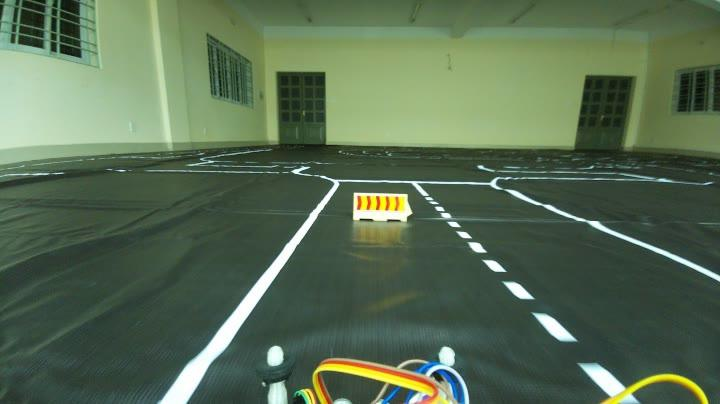roadblock: (346, 186, 419, 229)
